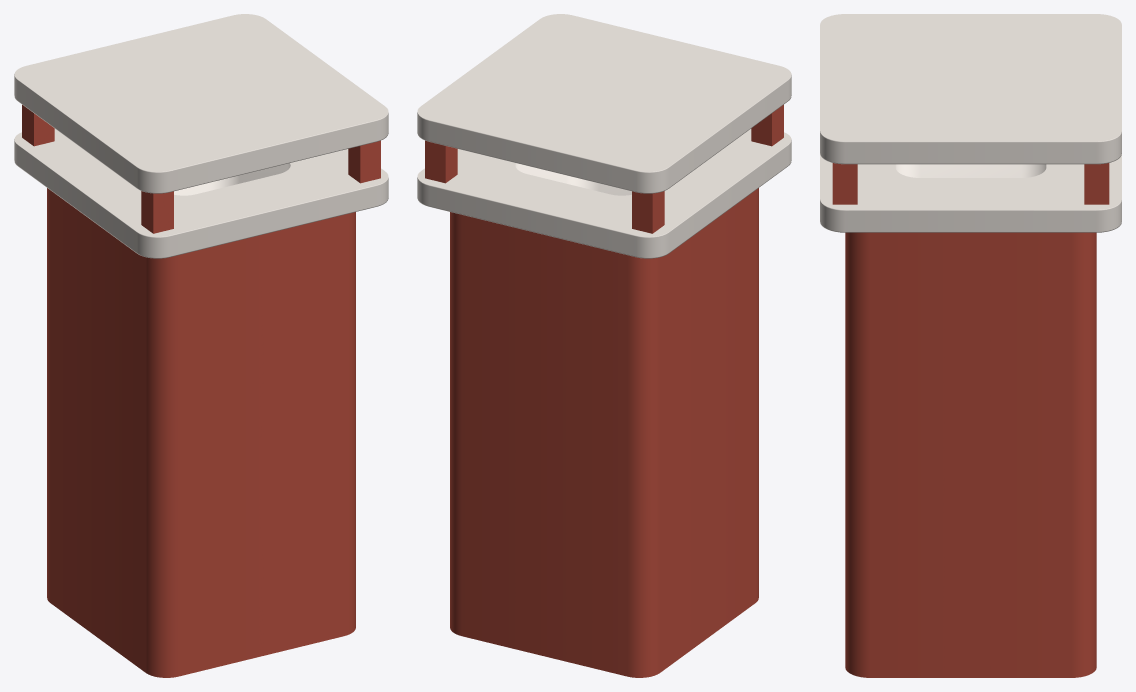
File: blyad.fbx
3 renders of one model, left to right at view 1: azimuth 30°, elevation 25°; view 2: azimuth 150°, elevation 25°; view 3: azimuth 270°, elevation 25°, orthographic. The views are drawn at different scales.
Visible parts, largest first — view 1: Cube; view 2: Cube; view 3: Cube.
Boxes of the visible parts, bbox=[...] form: Cube: bbox=[14, 14, 388, 677]; Cube: bbox=[417, 14, 791, 677]; Cube: bbox=[820, 14, 1121, 677].
Size of the model in its own units: 60 by 120 by 60.
